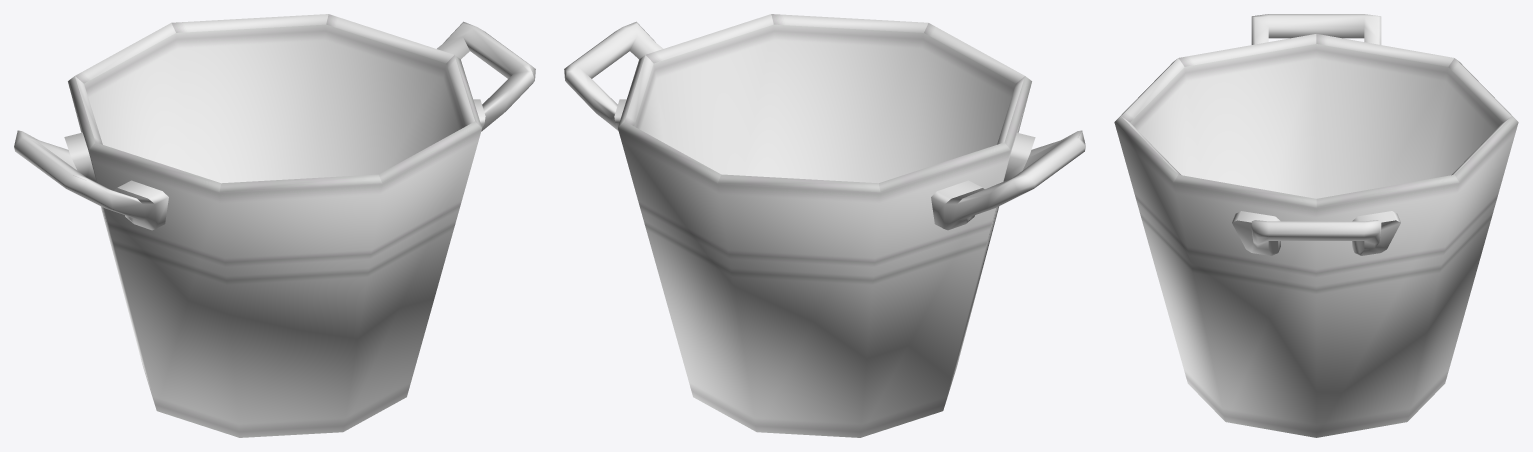
The model's file is MilkBucket.fbx.
3 renders of one model, left to right at view 1: azimuth 30°, elevation 25°; view 2: azimuth 150°, elevation 25°; view 3: azimuth 270°, elevation 25°, orthographic. The views are drawn at different scales.
Visible parts, largest first — view 1: MilkBucket; view 2: MilkBucket; view 3: MilkBucket.
Boxes of the visible parts, <box> form: MilkBucket: <box>14,14,535,437</box>; MilkBucket: <box>564,14,1085,437</box>; MilkBucket: <box>1114,14,1518,437</box>.
Size of the model in its own units: 1.25 by 0.718 by 0.9843.
